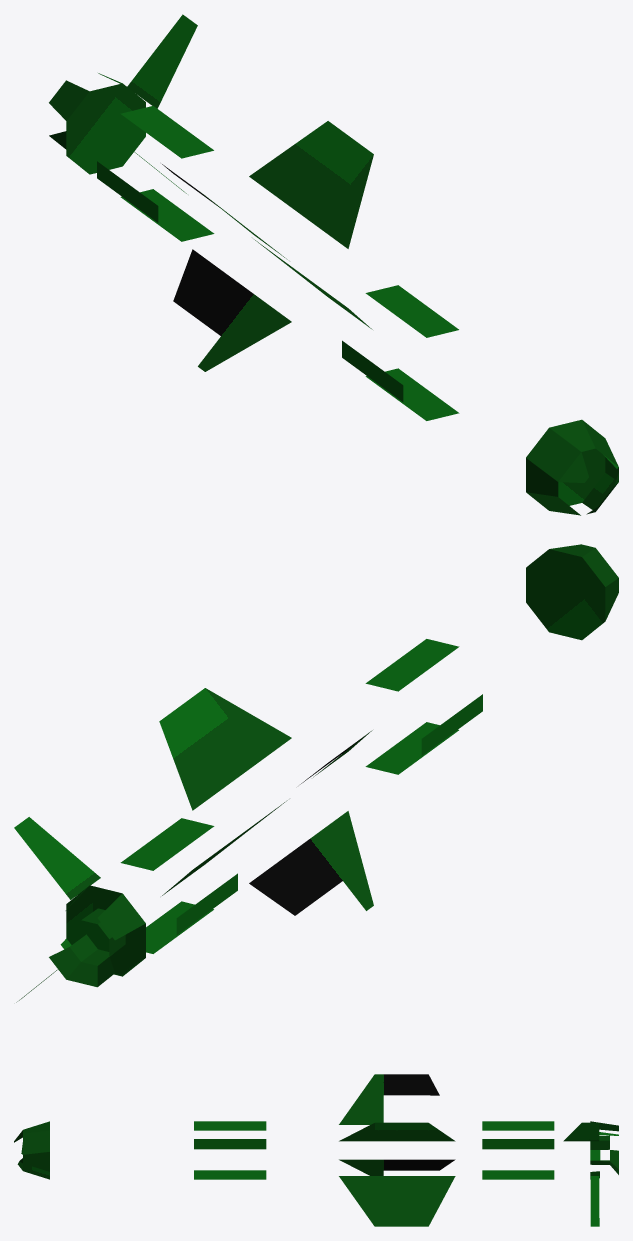
File: agm84e.obj
The picture shows the model from 3 angles, top to bottom: view 1: azimuth 30°, elevation 25°; view 2: azimuth 150°, elevation 25°; view 3: azimuth 270°, elevation 25°; orthographic projection. The views are drawn at different scales.
Parts seen in each view (by area): view 1: cylinder, plane14, plane16, cylinder17, plane, tube; view 2: cylinder, plane14, plane16, tube, plane, cylinder17; view 3: cylinder, plane15, plane13, plane14, cylinder17, plane16, tube, plane, plane11.
Part boxes in pixels (x1=…): cylinder: x1=66, y1=83, x2=605, y2=505; plane14: x1=249, y1=121, x2=373, y2=248; plane16: x1=173, y1=249, x2=291, y2=371; cylinder17: x1=526, y1=419, x2=618, y2=515; plane: x1=127, y1=14, x2=197, y2=108; tube: x1=49, y1=73, x2=121, y2=174; cylinder: x1=66, y1=549, x2=605, y2=976; plane14: x1=159, y1=688, x2=291, y2=810; plane16: x1=249, y1=811, x2=373, y2=915; tube: x1=49, y1=886, x2=145, y2=987; plane: x1=14, y1=817, x2=100, y2=899; cylinder17: x1=550, y1=544, x2=618, y2=620; cylinder: x1=194, y1=1121, x2=554, y2=1179; plane15: x1=339, y1=1176, x2=455, y2=1226; plane13: x1=339, y1=1074, x2=439, y2=1124; plane14: x1=339, y1=1122, x2=455, y2=1141; cylinder17: x1=14, y1=1121, x2=49, y2=1179; plane16: x1=339, y1=1159, x2=455, y2=1175; tube: x1=590, y1=1121, x2=618, y2=1179; plane: x1=563, y1=1122, x2=599, y2=1141; plane11: x1=590, y1=1176, x2=599, y2=1226.
Size of the model in its own units: 0.7955 by 0.7955 by 4.2.
